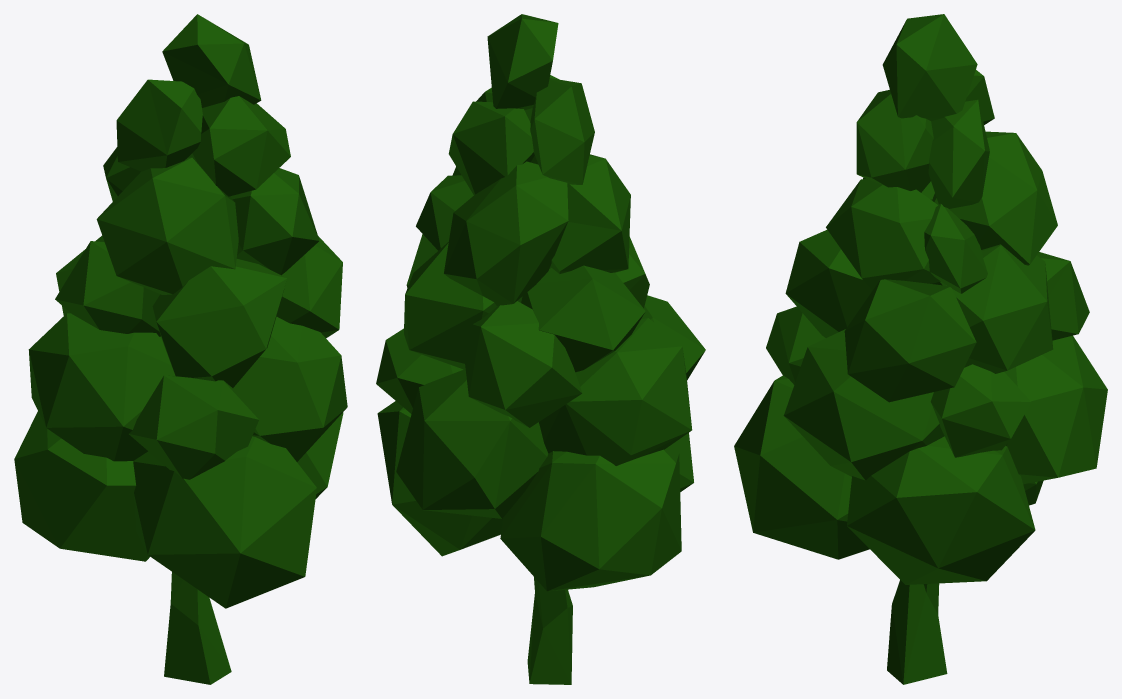
File: Poplar_Tree_543face.fbx
3 renders of one model, left to right at view 1: azimuth 30°, elevation 25°; view 2: azimuth 150°, elevation 25°; view 3: azimuth 270°, elevation 25°, orthographic. The views are drawn at different scales.
Visible parts, largest first — view 1: Poplar; view 2: Poplar; view 3: Poplar.
Boxes of the visible parts, x1=… form: Poplar: x1=14, y1=14, x2=347, y2=684; Poplar: x1=376, y1=14, x2=705, y2=684; Poplar: x1=734, y1=14, x2=1107, y2=684.
Size of the model in its own units: 269 by 583 by 298.
